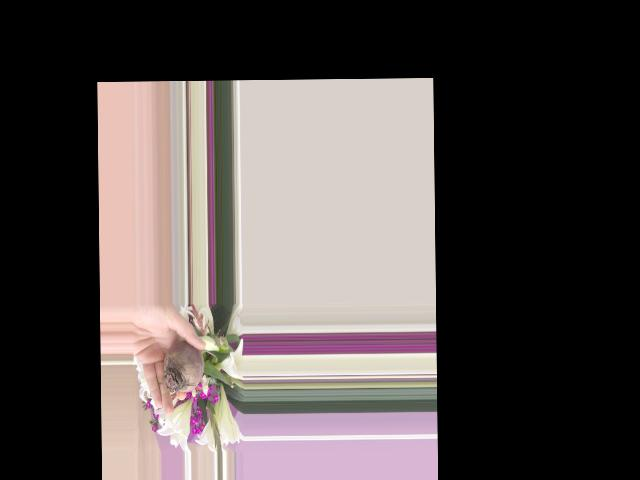beet: (163, 340, 216, 392)
